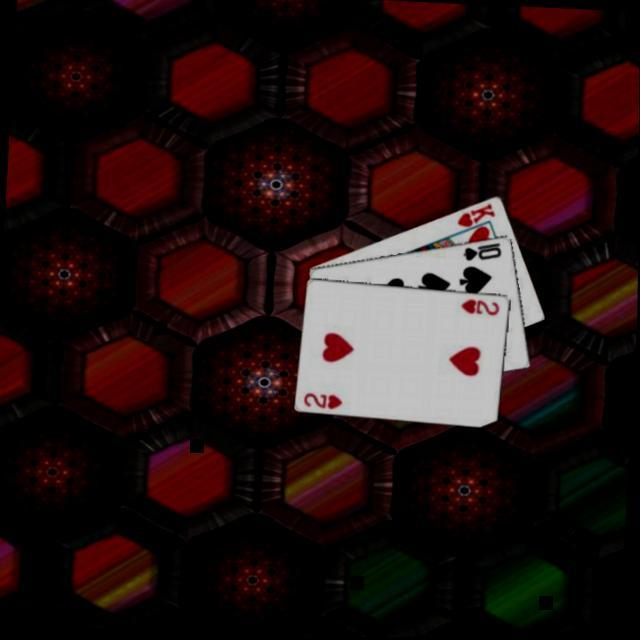10S: (459, 240, 502, 266)
2H: (456, 298, 501, 320), (299, 392, 344, 414)
KH: (452, 201, 497, 233)
